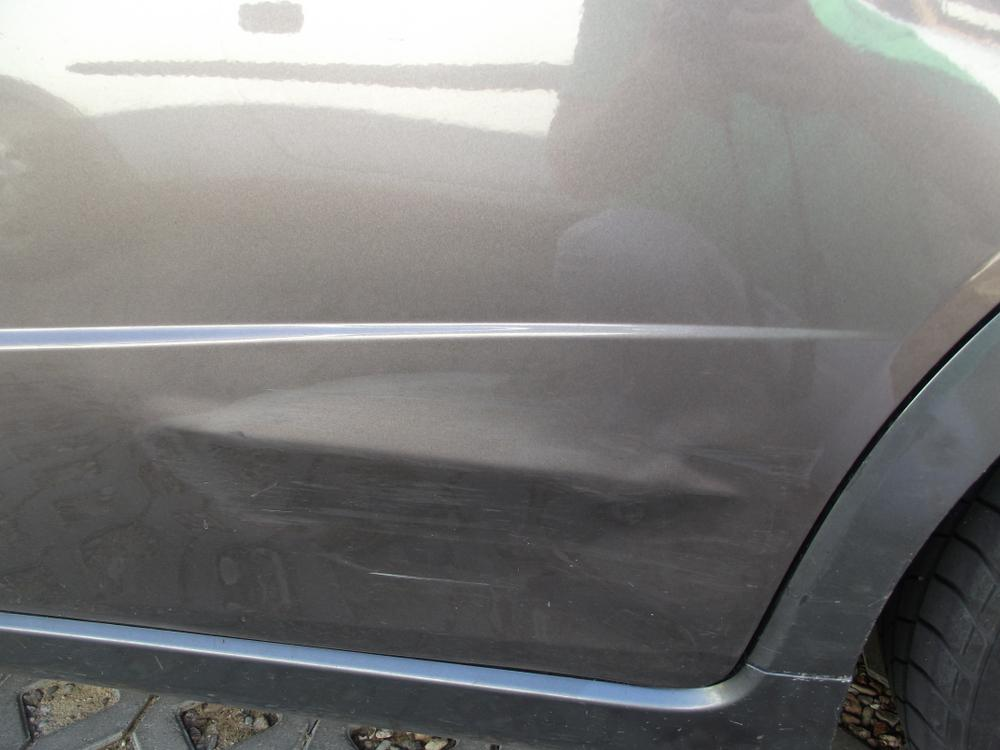dent: (124, 337, 753, 609)
